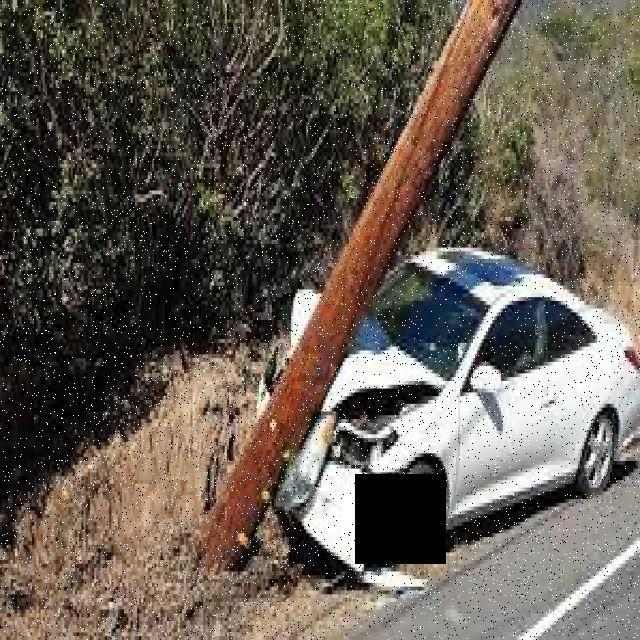single accident: (175, 165, 640, 598)
